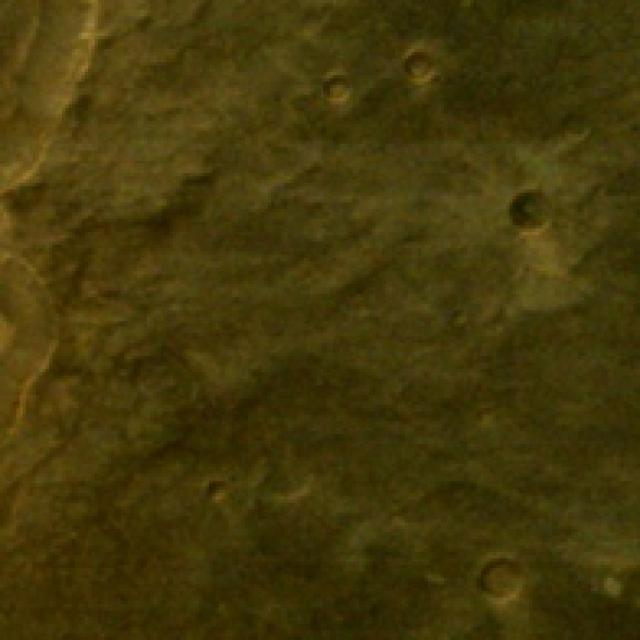Crater: (0, 0, 124, 202)
